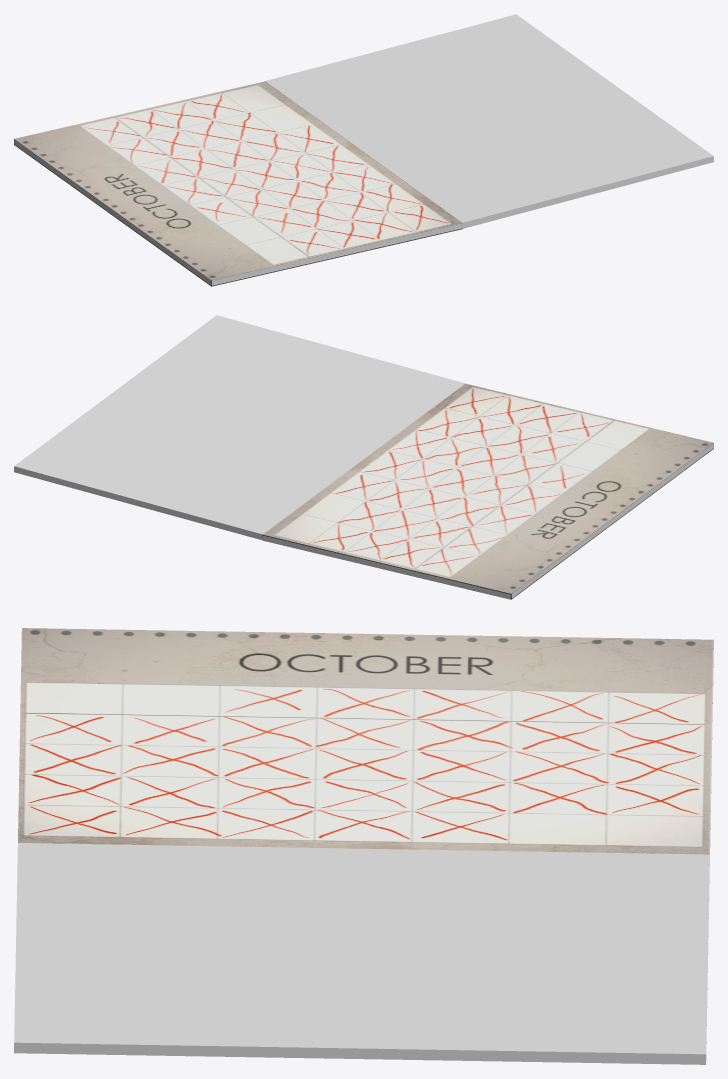
The picture shows the model from 3 angles, top to bottom: view 1: azimuth 30°, elevation 25°; view 2: azimuth 150°, elevation 25°; view 3: azimuth 270°, elevation 25°; orthographic projection. The views are drawn at different scales.
Visible parts, largest first — view 1: Cube001_Cube.000; view 2: Cube001_Cube.000; view 3: Cube001_Cube.000.
Part boxes in pixels (left/top/right/bottom): Cube001_Cube.000: left=14, top=14, right=713, bottom=286; Cube001_Cube.000: left=14, top=315, right=713, bottom=599; Cube001_Cube.000: left=14, top=628, right=713, bottom=1064.
Size of the model in its own units: 9.52 by 0.3292 by 6.64.
Materials: 4 (3 with a texture image).
